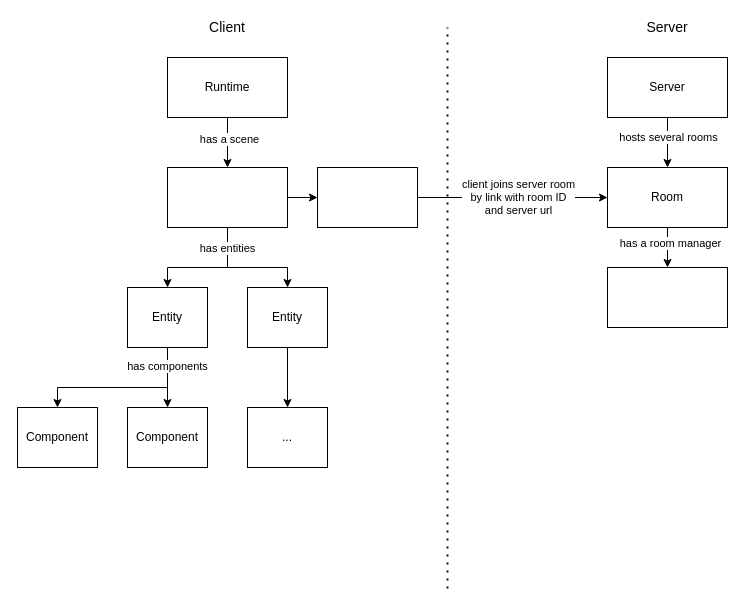
Image size: 745x607. Some labels were removed from this diagram. The centre of each missing label's shape, as x and y in pixels:
NetworkManager: pixel 367 197
RoomManager: pixel 667 297
Scene: pixel 227 197
